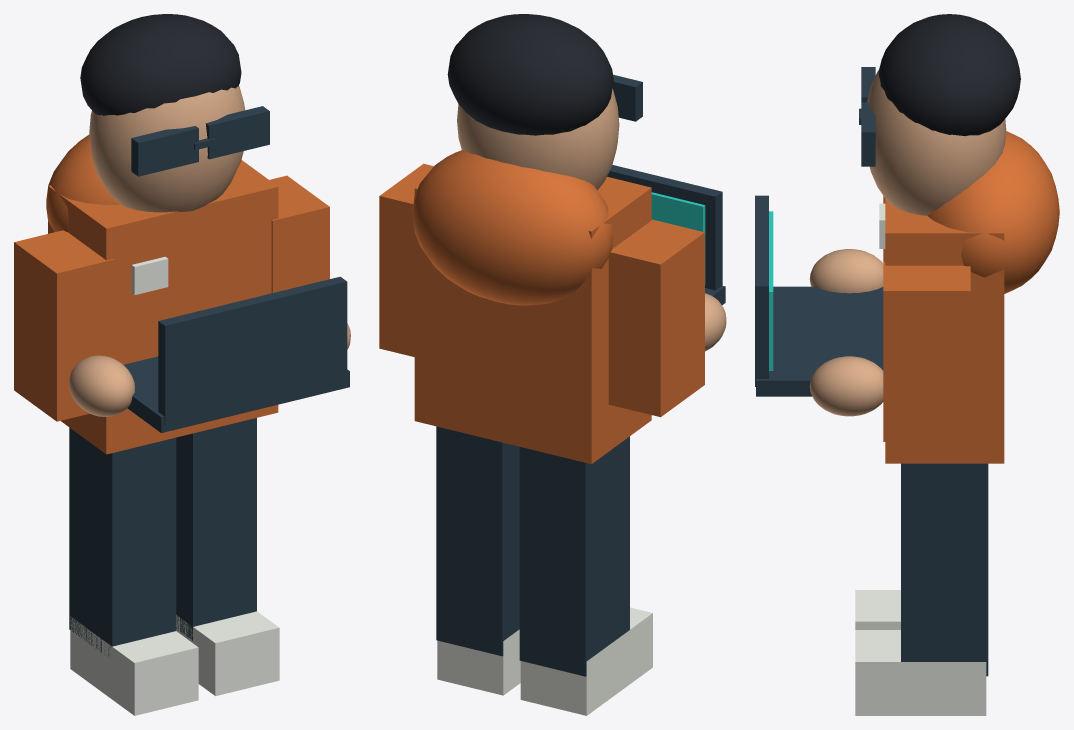
Rendered from rust-coder.glb.
3 views of the same model, side by side, from view 1: azimuth 30°, elevation 25°; view 2: azimuth 150°, elevation 25°; view 3: azimuth 270°, elevation 25° (orthographic). The views are drawn at different scales.
Parts seen in each view (by area): view 1: Hoodie, Trousers, Laptop screen, Trousers.001, Sleeve, Hair, Head, Sneaker, Sneaker.001, Sleeve.001, Field laptop, Hood (+4 smaller); view 2: Hoodie, Hood, Trousers, Trousers.001, Sleeve, Hair, Head, Sneaker, Sleeve.001, Sneaker.001, Laptop screen, Screen display (+2 smaller); view 3: Trousers.001, Sleeve.001, Hair, Hoodie, Hood, Head, Field laptop, Sneaker.001, Hand.001, Hand, Laptop screen, Sneaker (+2 smaller).
Boxes of the visible parts, x1,y1,x2,y2 form: Hoodie: [48, 160, 278, 454]; Trousers: [69, 427, 176, 656]; Laptop screen: [158, 276, 347, 424]; Trousers.001: [176, 418, 256, 640]; Sleeve: [14, 230, 114, 421]; Hair: [80, 14, 241, 115]; Head: [89, 86, 245, 212]; Sneaker: [70, 616, 198, 715]; Sneaker.001: [176, 611, 279, 696]; Sleeve.001: [269, 175, 329, 293]; Field laptop: [123, 356, 349, 432]; Hood: [46, 134, 120, 231]; Hoodie: [414, 176, 651, 464]; Hood: [412, 150, 613, 305]; Trousers: [519, 436, 629, 676]; Trousers.001: [436, 426, 519, 656]; Sleeve: [608, 219, 704, 417]; Hair: [447, 14, 613, 135]; Head: [457, 88, 619, 189]; Sneaker: [520, 607, 652, 715]; Sleeve.001: [379, 163, 433, 356]; Sneaker.001: [437, 629, 520, 695]; Laptop screen: [607, 165, 722, 290]; Screen display: [651, 192, 705, 284]; Trousers.001: [901, 463, 988, 676]; Sleeve.001: [883, 262, 970, 441]; Hair: [878, 14, 1020, 136]; Hoodie: [885, 198, 1004, 463]; Hood: [927, 131, 1059, 293]; Head: [867, 69, 1006, 215]; Field laptop: [756, 286, 883, 396]; Sneaker.001: [855, 630, 986, 715]; Hand.001: [809, 356, 883, 416]; Hand: [809, 249, 883, 293]; Laptop screen: [755, 195, 768, 386]; Sneaker: [855, 590, 900, 629].
Size of the model in its own units: 0.81 by 1.82 by 0.7675.
